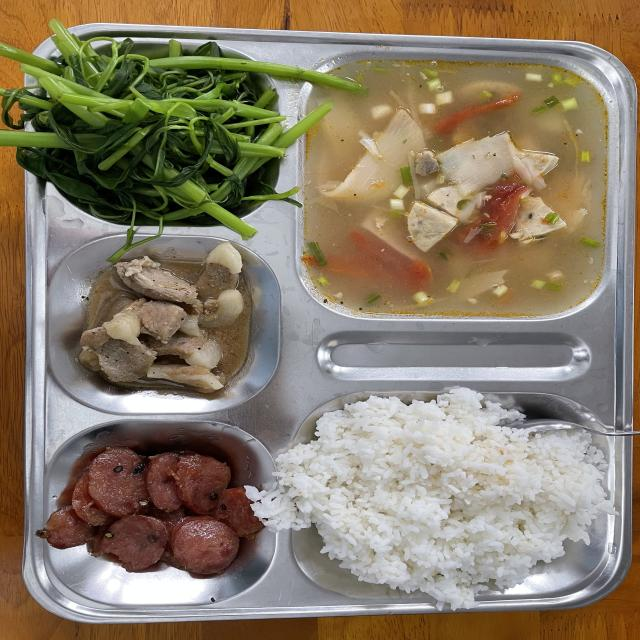bo xao: (78, 242, 251, 393)
canh chua: (300, 60, 609, 319)
com: (252, 388, 611, 610)
rau muong: (0, 20, 364, 250)
